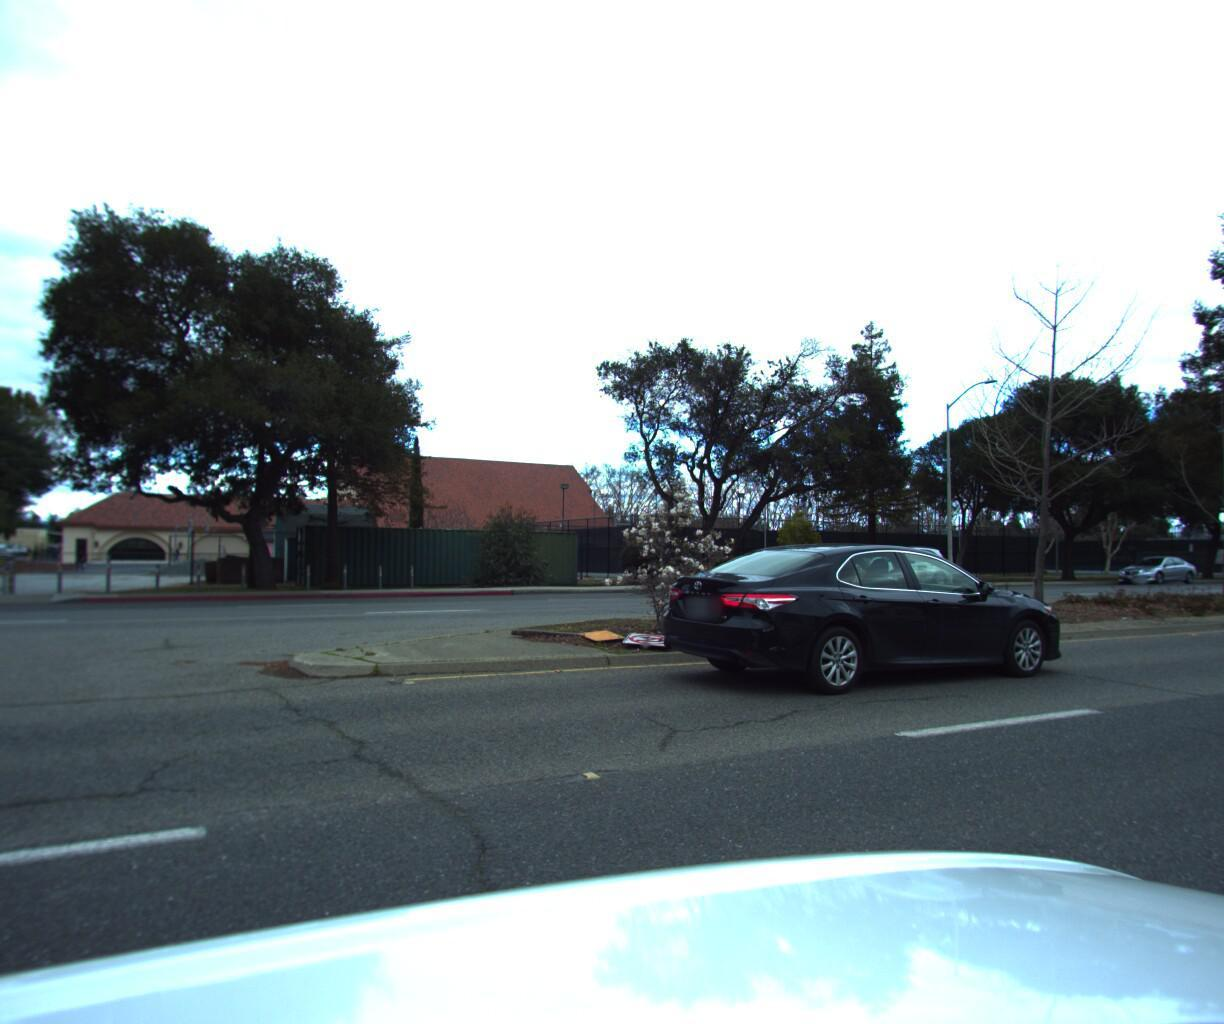car: (642, 525, 1075, 703), (833, 539, 955, 589), (1103, 547, 1195, 582), (1220, 548, 1224, 579)
